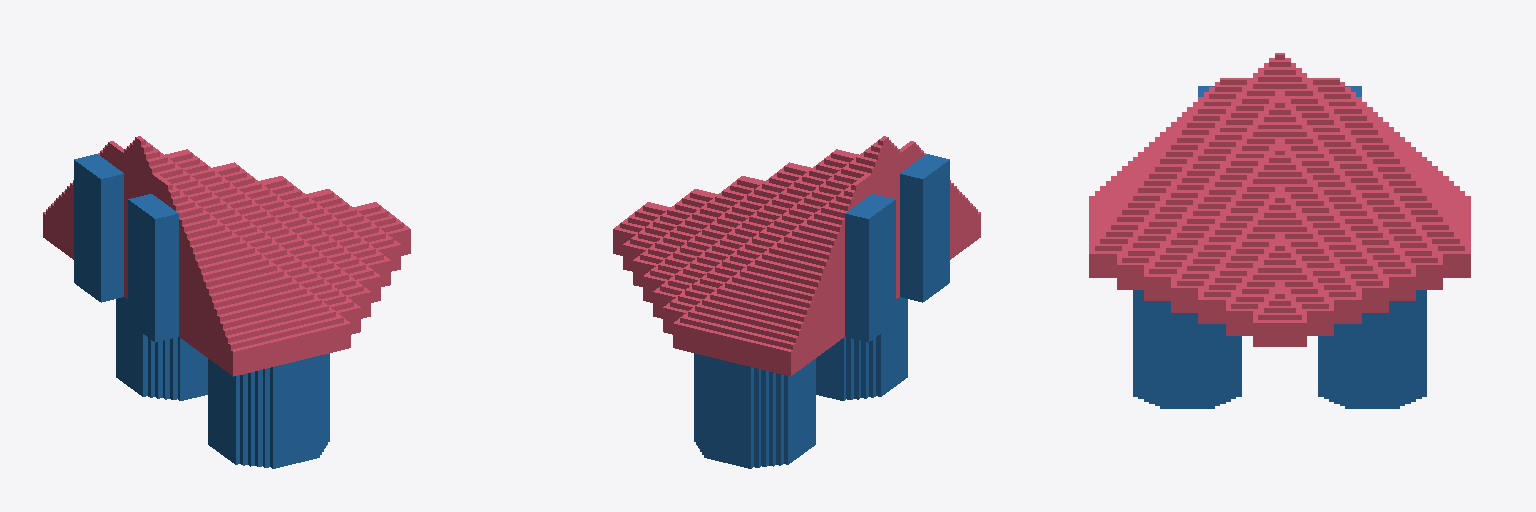
3 renders of one model, left to right at view 1: azimuth 30°, elevation 25°; view 2: azimuth 150°, elevation 25°; view 3: azimuth 270°, elevation 25°, orthographic.
Parts seen in each view (by area): view 1: object 1; view 2: object 1; view 3: object 1.
Boxes of the visible parts, x1,y1,x2,y2 form: object 1: [43, 136, 410, 468]; object 1: [613, 136, 980, 468]; object 1: [1089, 53, 1470, 408].
Size of the model in its own units: 6 by 5.9 by 7.
1 materials, 1 textured.